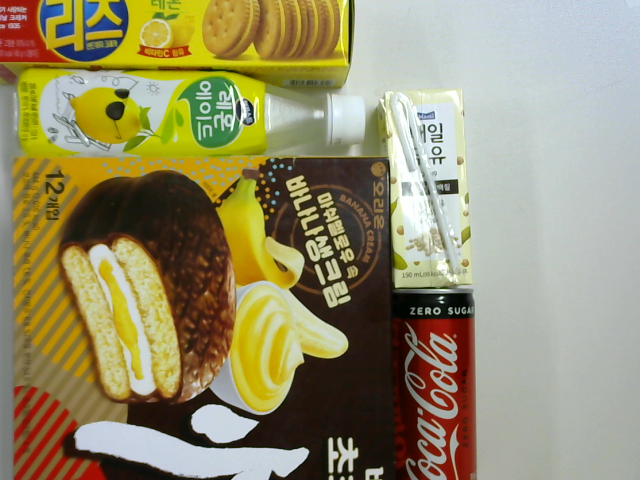99.89_Soymilk: (379, 81, 473, 299)
Choco_Pie_Banana: (5, 155, 403, 480)
Coca_Cola_Zero_Can_250ml: (394, 283, 483, 480)
Ritz_Remon_96g: (1, 2, 361, 87)
Sunkist_Lemonaid_Pet: (6, 63, 380, 175)
